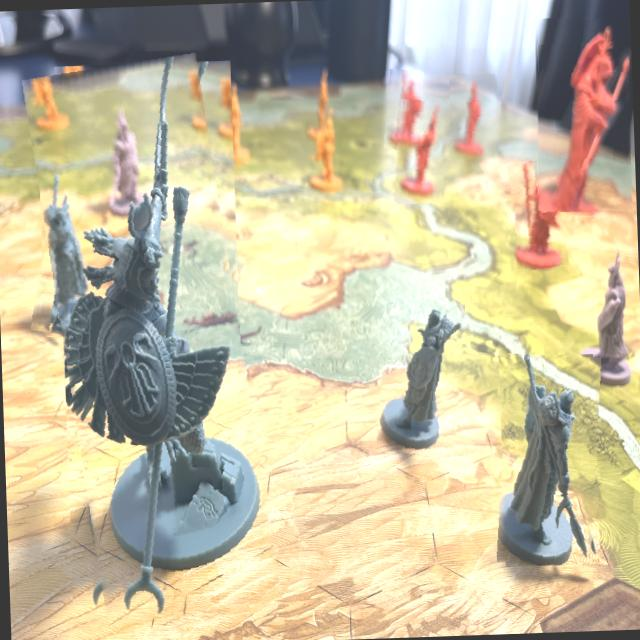amon: (532, 16, 634, 213)
amon_follower: (510, 158, 566, 270), (392, 99, 446, 204), (448, 72, 498, 160), (382, 68, 423, 152)
isis: (38, 56, 266, 624)
isis_follower: (494, 352, 604, 568), (32, 168, 124, 340), (374, 295, 466, 457)
